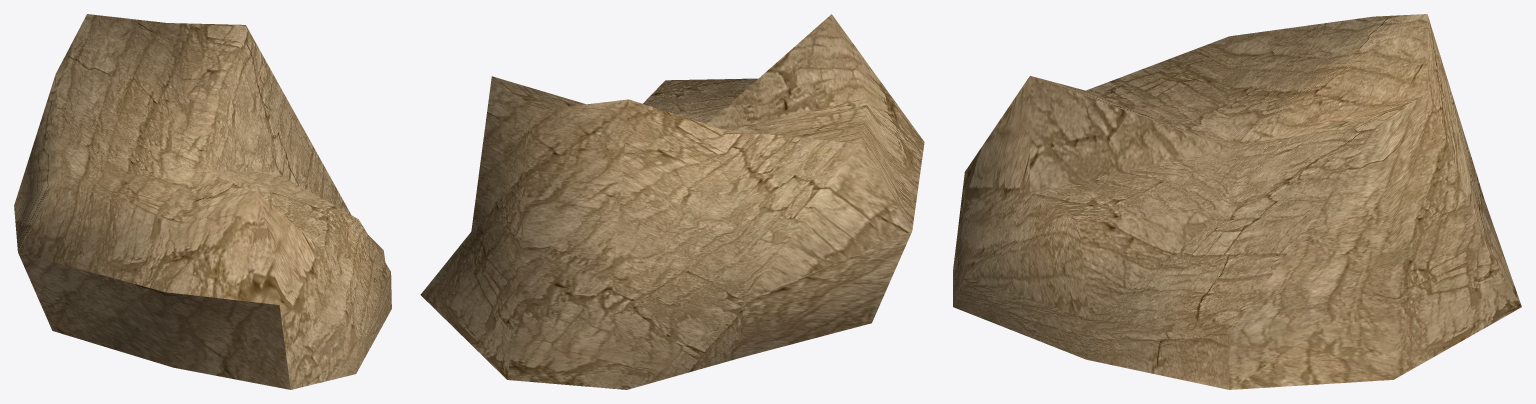
The model's file is geology-stone-desert-boulder.glb.
The picture shows the model from 3 angles, left to right: view 1: azimuth 30°, elevation 25°; view 2: azimuth 150°, elevation 25°; view 3: azimuth 270°, elevation 25°; orthographic projection. The views are drawn at different scales.
Visible parts, largest first — view 1: stone_granite_boulder_a; view 2: stone_granite_boulder_a; view 3: stone_granite_boulder_a.
Part boxes in pixels (bbox=[...]): stone_granite_boulder_a: bbox=[14, 14, 391, 389]; stone_granite_boulder_a: bbox=[420, 14, 924, 389]; stone_granite_boulder_a: bbox=[953, 14, 1521, 389].
Size of the model in its own units: 2.88 by 1.69 by 3.37.
1 material, 1 textured.
